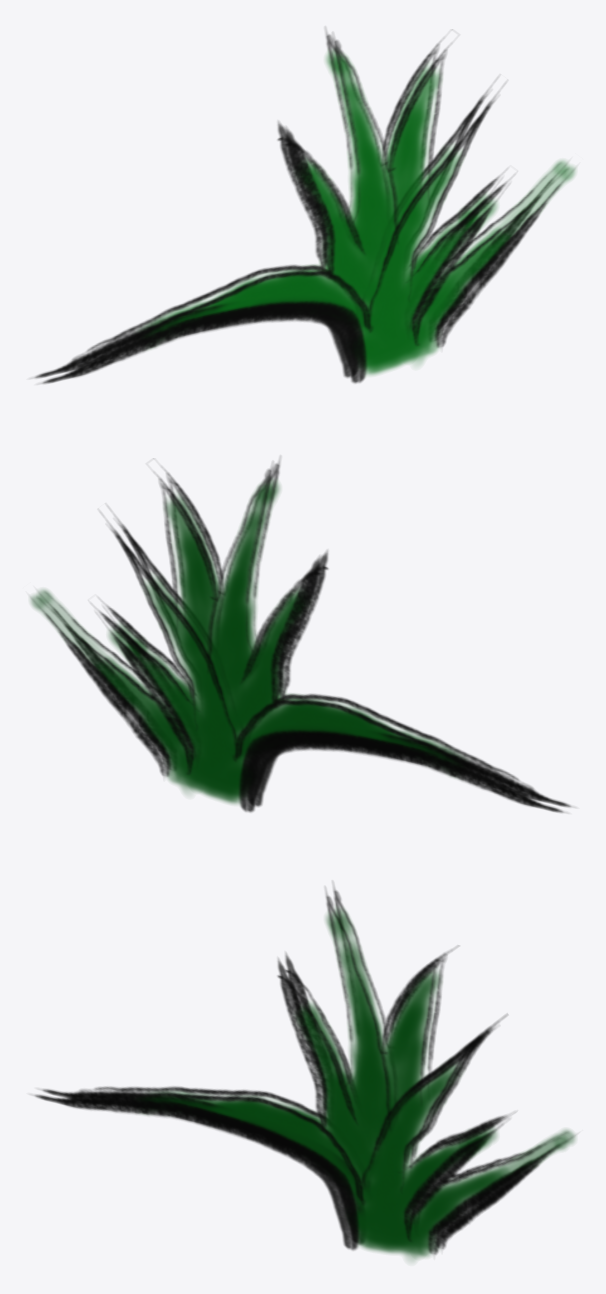
File: SM_PlantProp_03.glb
3 renders of one model, top to bottom at view 1: azimuth 30°, elevation 25°; view 2: azimuth 150°, elevation 25°; view 3: azimuth 330°, elevation 25°, orthographic.
Visible parts, largest first — view 1: T_Plant_03; view 2: T_Plant_03; view 3: T_Plant_03.
Boxes of the visible parts, left/top/right/bottom form: T_Plant_03: left=34, top=31, right=575, bottom=383; T_Plant_03: left=30, top=460, right=571, bottom=812; T_Plant_03: left=34, top=887, right=575, bottom=1260.
Bounding box in the file's own units: 0.6525 × 0.4143 × 0.015.
Materials: 1 (1 with a texture image).
